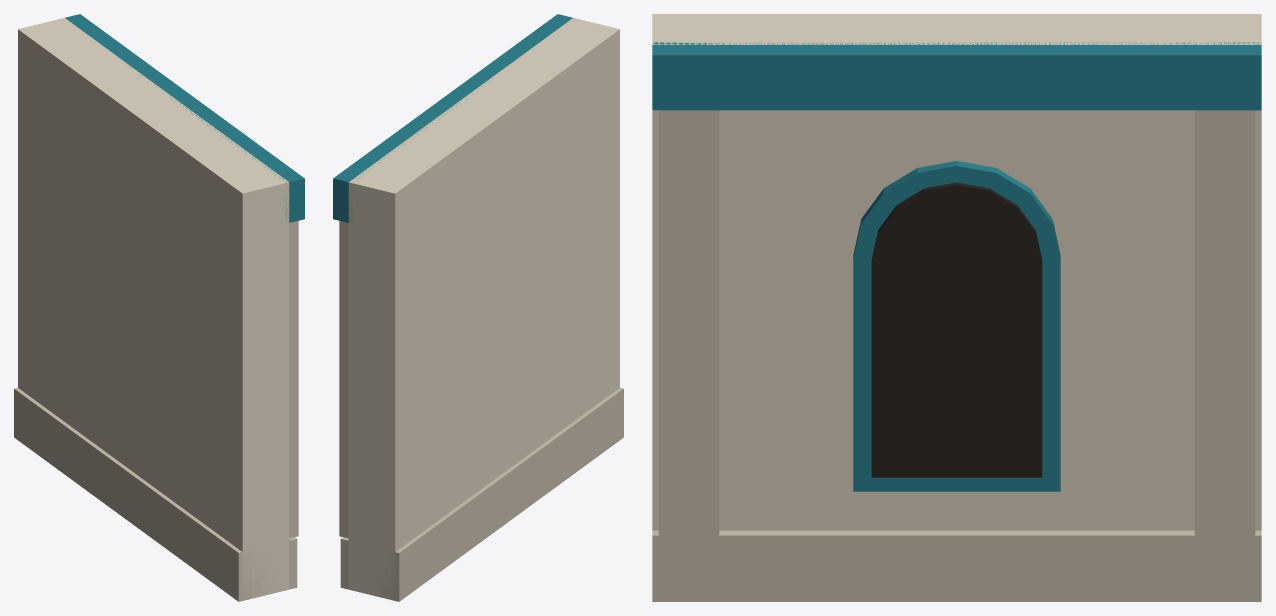
Rendered from wall-pilaster.glb.
The picture shows the model from 3 angles, left to right: view 1: azimuth 30°, elevation 25°; view 2: azimuth 150°, elevation 25°; view 3: azimuth 270°, elevation 25°; orthographic projection. The views are drawn at different scales.
Parts seen in each view (by area): view 1: wall-pilaster; view 2: wall-pilaster; view 3: wall-pilaster.
Boxes of the visible parts, <box> form: wall-pilaster: <box>14,14,304,601</box>; wall-pilaster: <box>333,14,623,601</box>; wall-pilaster: <box>652,14,1261,601</box>.
Bounding box in the file's own units: 0.17 × 1 × 1.
